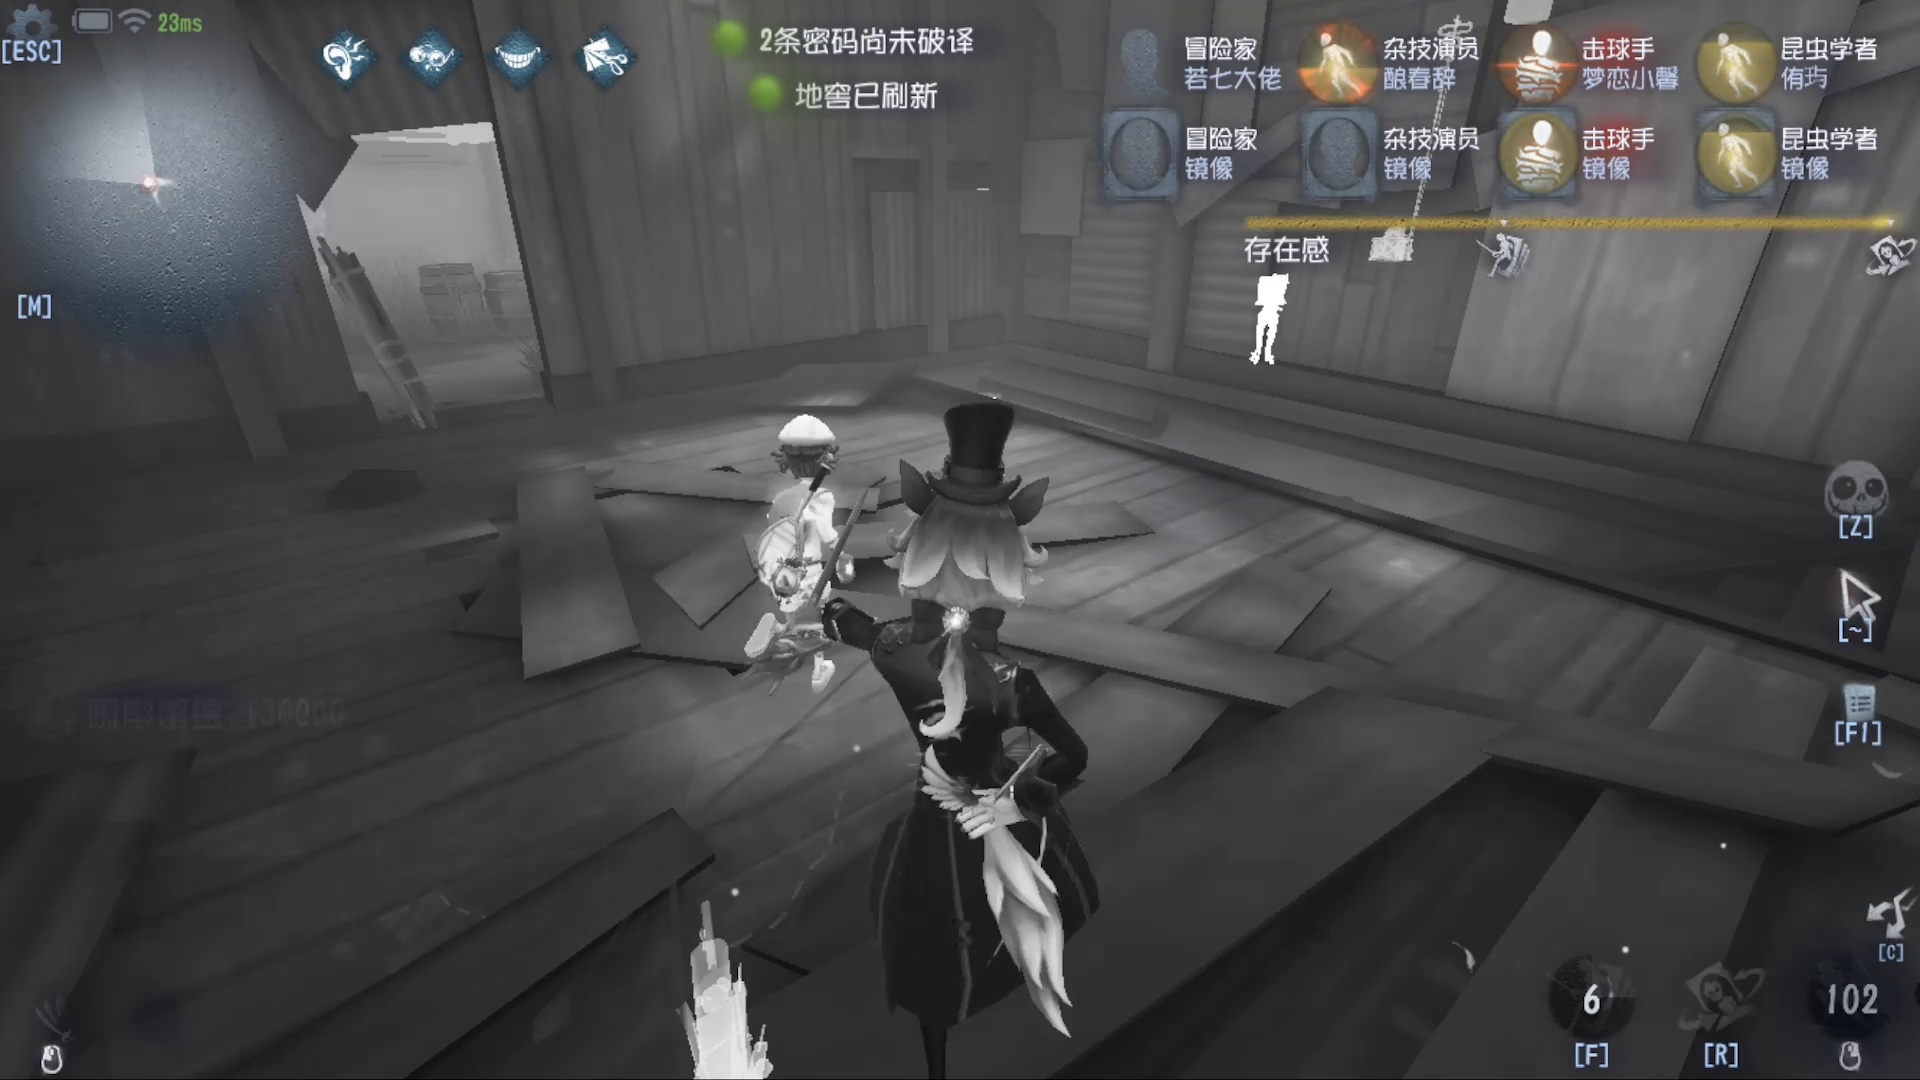求生者: (723, 415, 853, 630)
